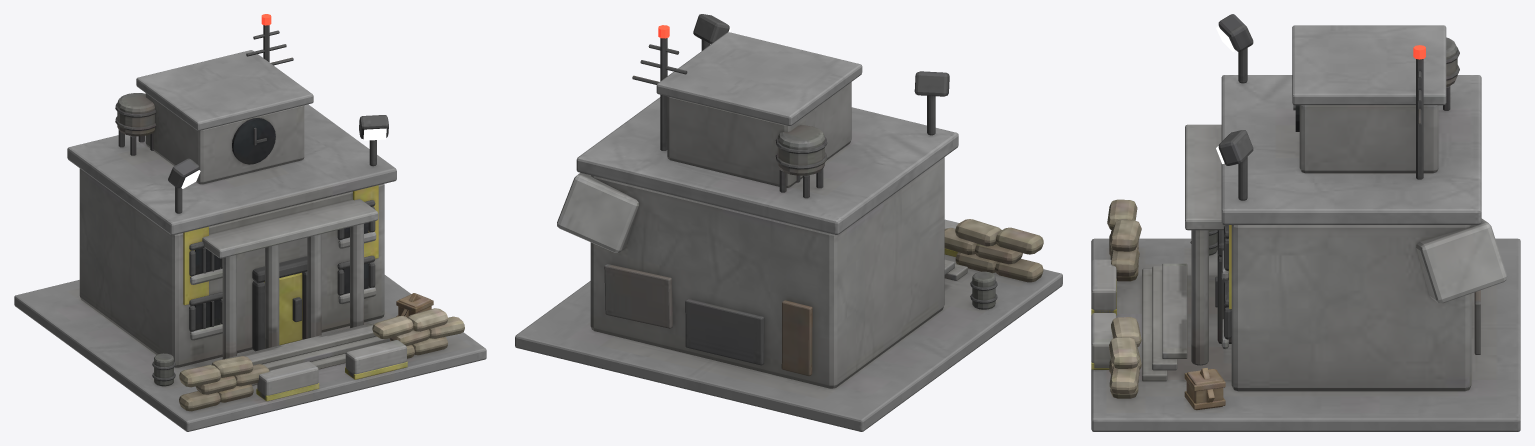
File: map-hall.glb
3 views of the same model, side by side, from view 1: azimuth 30°, elevation 25°; view 2: azimuth 150°, elevation 25°; view 3: azimuth 270°, elevation 25° (orthographic). The views are drawn at different scales.
Visible parts, largest first — view 1: map_hall, map_hall_lights; view 2: map_hall; view 3: map_hall.
Part boxes in pixels (bbox=[...]): map_hall: bbox=[14, 25, 486, 431]; map_hall_lights: bbox=[181, 14, 386, 188]; map_hall: bbox=[515, 14, 1062, 431]; map_hall: bbox=[1091, 14, 1520, 431].
Bounding box in the file's own units: 1.7 × 1.45 × 1.7.
Materials: 3 (1 with a texture image).
